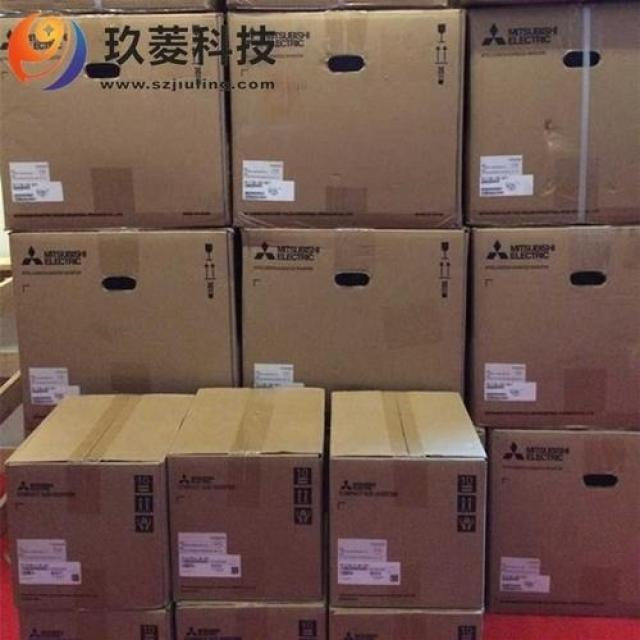box: (226, 8, 466, 227), (0, 11, 231, 230), (9, 228, 240, 440), (4, 394, 195, 610), (241, 227, 469, 401), (468, 0, 639, 224), (468, 225, 639, 431), (330, 391, 487, 607), (167, 388, 325, 601), (484, 426, 639, 619), (175, 601, 326, 639), (19, 602, 172, 639), (328, 606, 484, 639)
